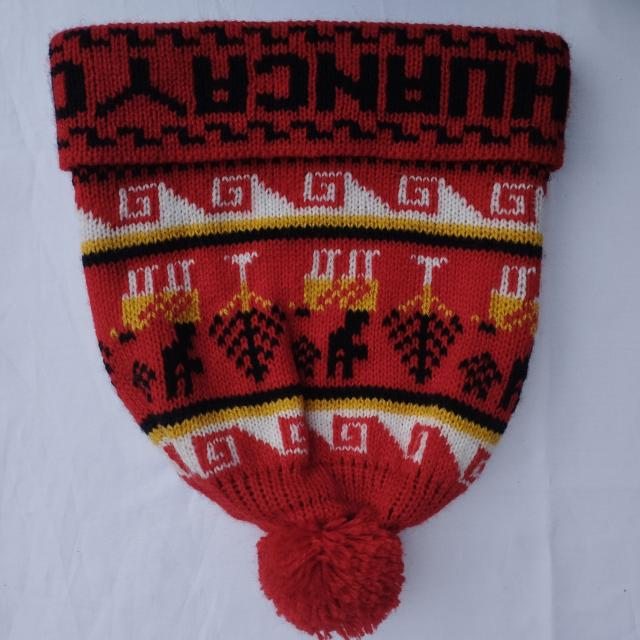Gorro: (46, 20, 572, 638)
